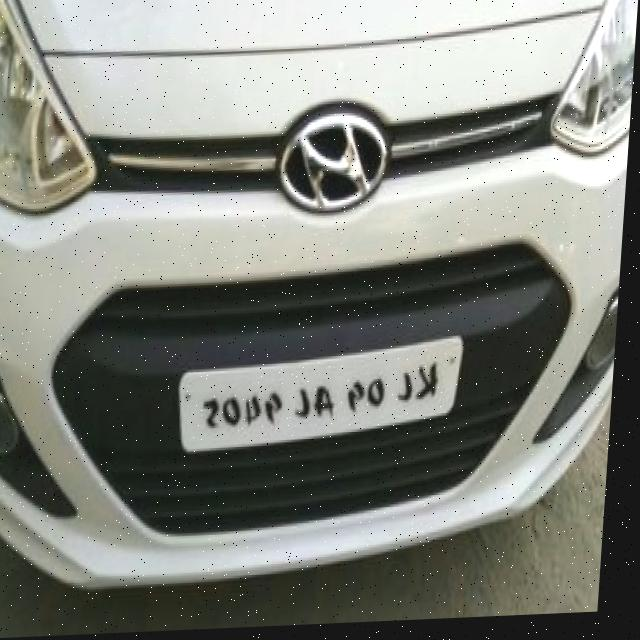plate: (180, 336, 469, 464)
